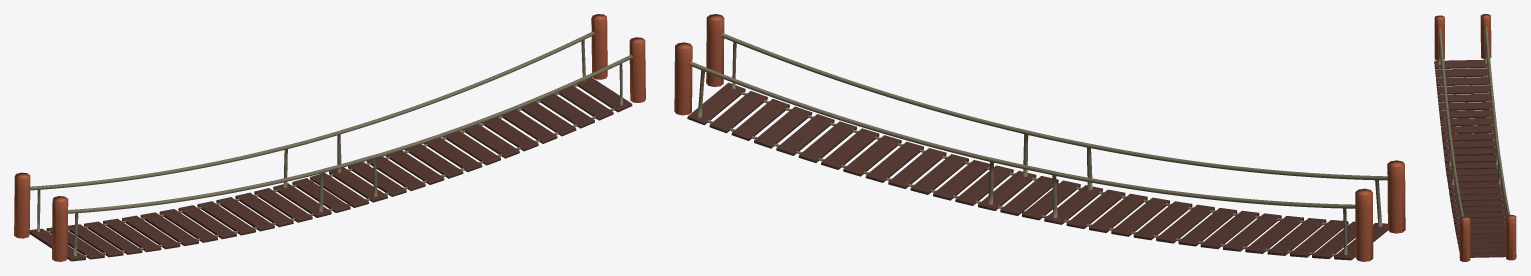
The model's file is Low Poly Bridge.fbx.
3 views of the same model, side by side, from view 1: azimuth 30°, elevation 25°; view 2: azimuth 150°, elevation 25°; view 3: azimuth 270°, elevation 25° (orthographic). The views are drawn at different scales.
Parts seen in each view (by area): view 1: Bridge4; view 2: Bridge4; view 3: Bridge4.
Part boxes in pixels (left/top/right/bottom): Bridge4: left=14, top=14, right=645, bottom=261; Bridge4: left=674, top=14, right=1405, bottom=261; Bridge4: left=1434, top=14, right=1516, bottom=261.
Bounding box in the file's own units: 934 × 125 × 157.
